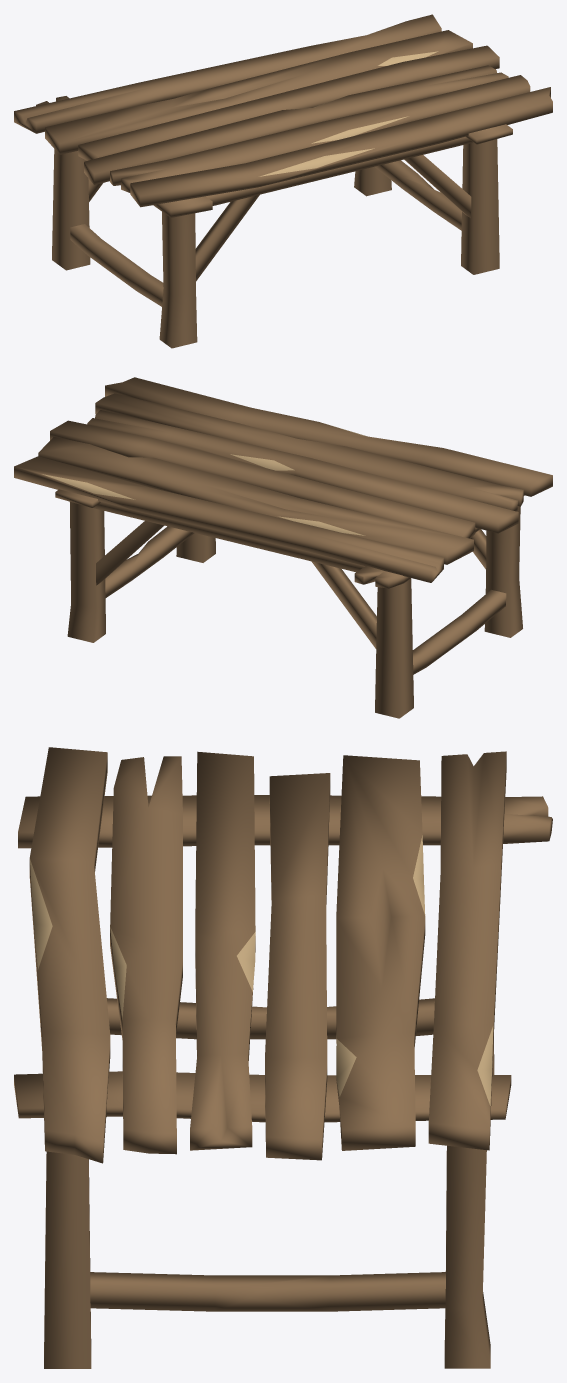
Rendered from rpgpp_lt_table_01 -col.glb.
3 views of the same model, one above another, from view 1: azimuth 30°, elevation 25°; view 2: azimuth 150°, elevation 25°; view 3: azimuth 270°, elevation 25° (orthographic). The views are drawn at different scales.
Visible parts, largest first — view 1: rpgpp_lt_table_01 -col; view 2: rpgpp_lt_table_01 -col; view 3: rpgpp_lt_table_01 -col.
Boxes of the visible parts, box(x1,y1,x2,y2) form: rpgpp_lt_table_01 -col: box(14, 14, 552, 348); rpgpp_lt_table_01 -col: box(14, 377, 552, 718); rpgpp_lt_table_01 -col: box(14, 747, 552, 1368).
Bounding box in the file's own units: 2.71 × 0.9538 × 1.57.
Materials: 1 (1 with a texture image).
